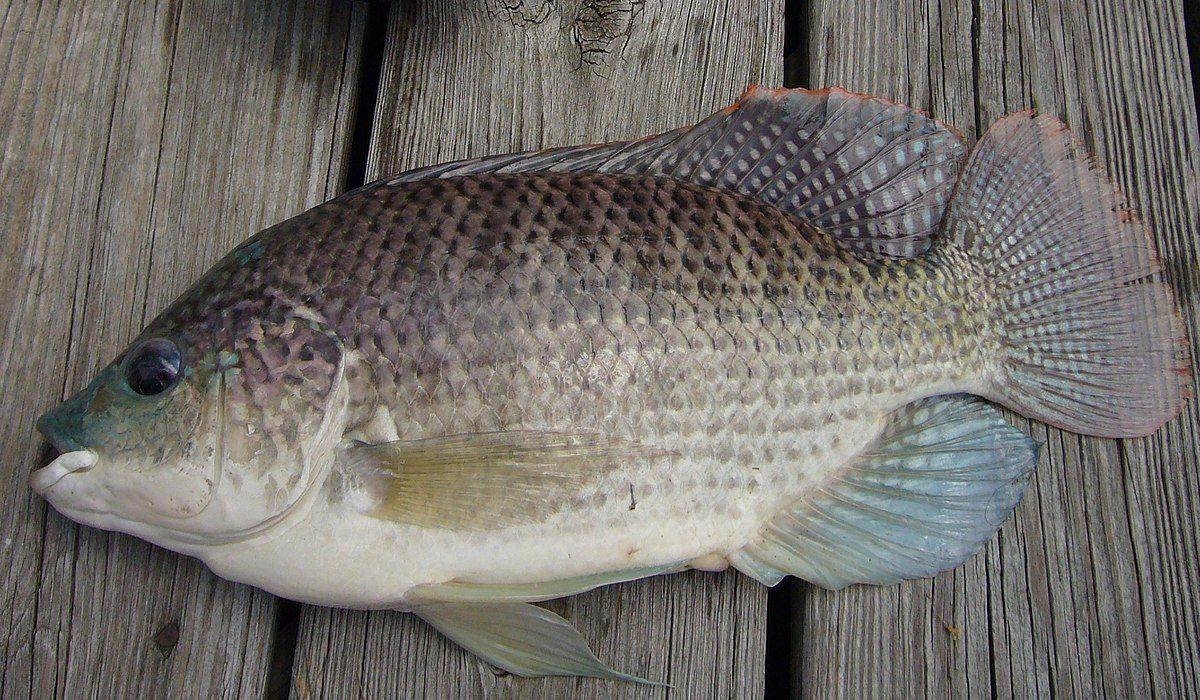Tilapia: (34, 83, 1180, 688)
